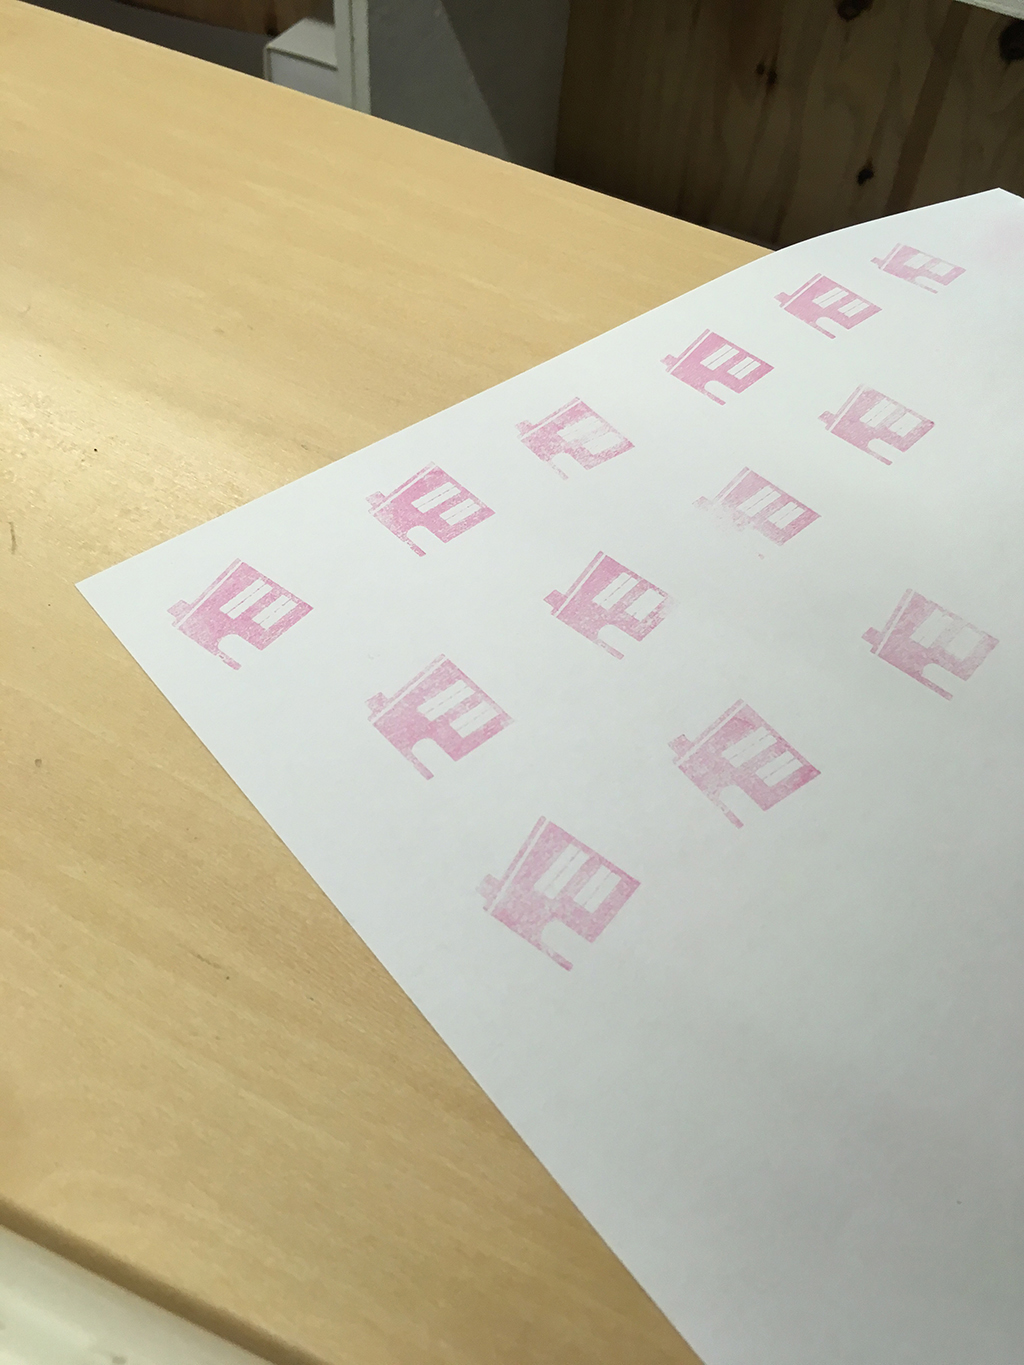house: (468, 809, 650, 983), (659, 683, 833, 840), (354, 648, 527, 788), (848, 569, 1012, 711), (158, 544, 317, 681), (531, 538, 689, 667), (359, 455, 508, 575), (677, 459, 827, 570), (814, 373, 947, 478), (650, 321, 785, 416), (504, 393, 636, 489), (771, 265, 888, 352), (863, 232, 971, 294)
